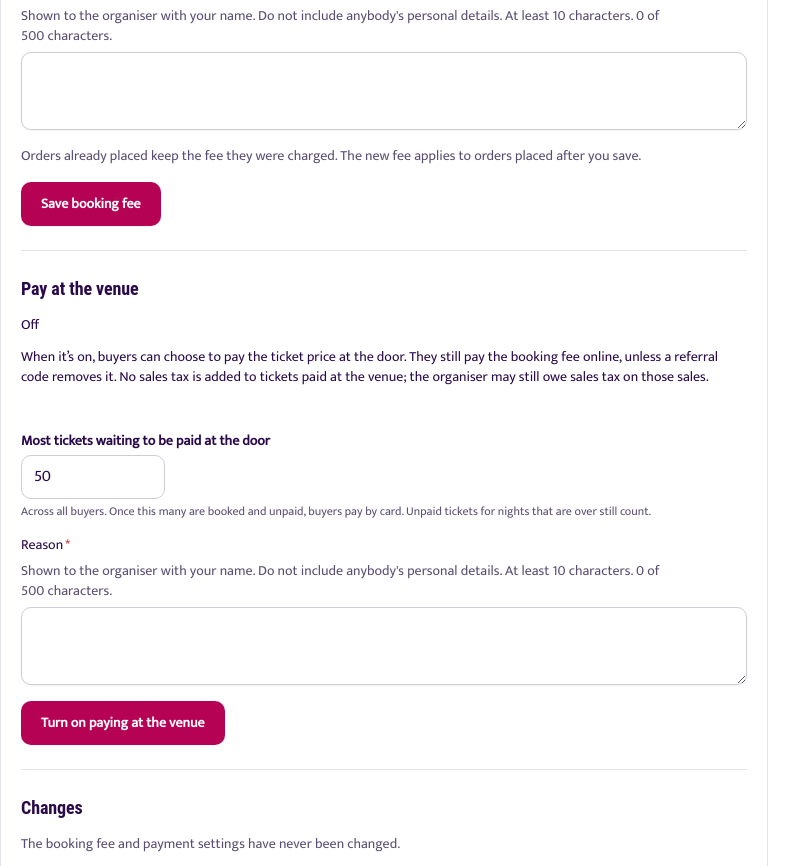
paying at the venue › says "ticket", not "tickets", for a limit of one
(page scrolled)
Replace the text in the number field labelled "Most tickets waiting to be paid at the door" with "1": (93, 477) 21,455 -> 165,499
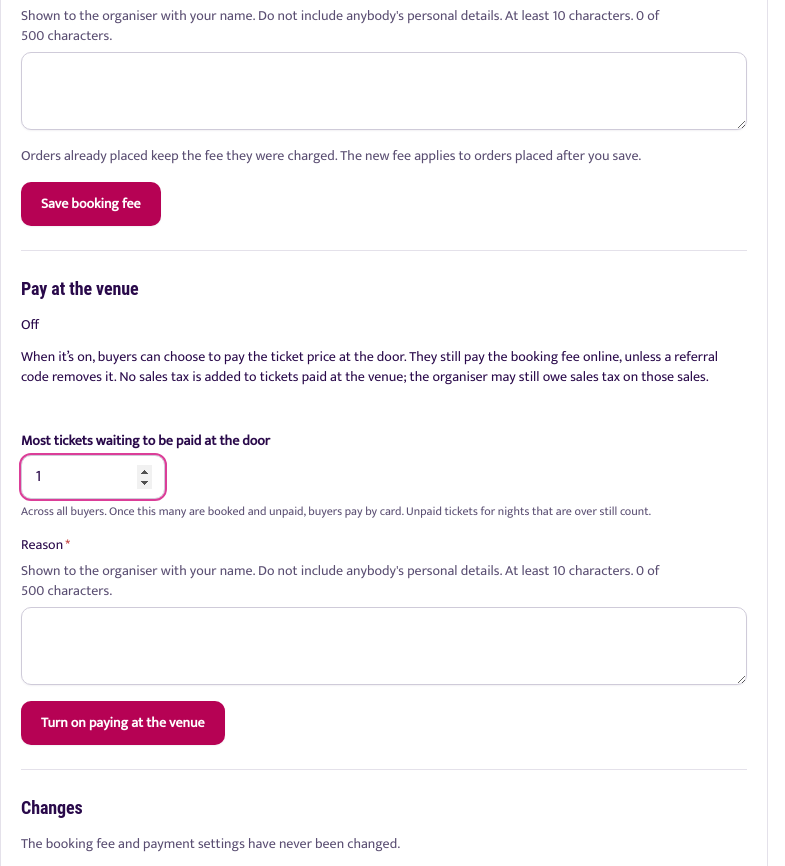
In the text box labelled "Reason*" below "Off": (384, 646) 21,607 -> 747,685, type "Agreed with the organiser for this launch."
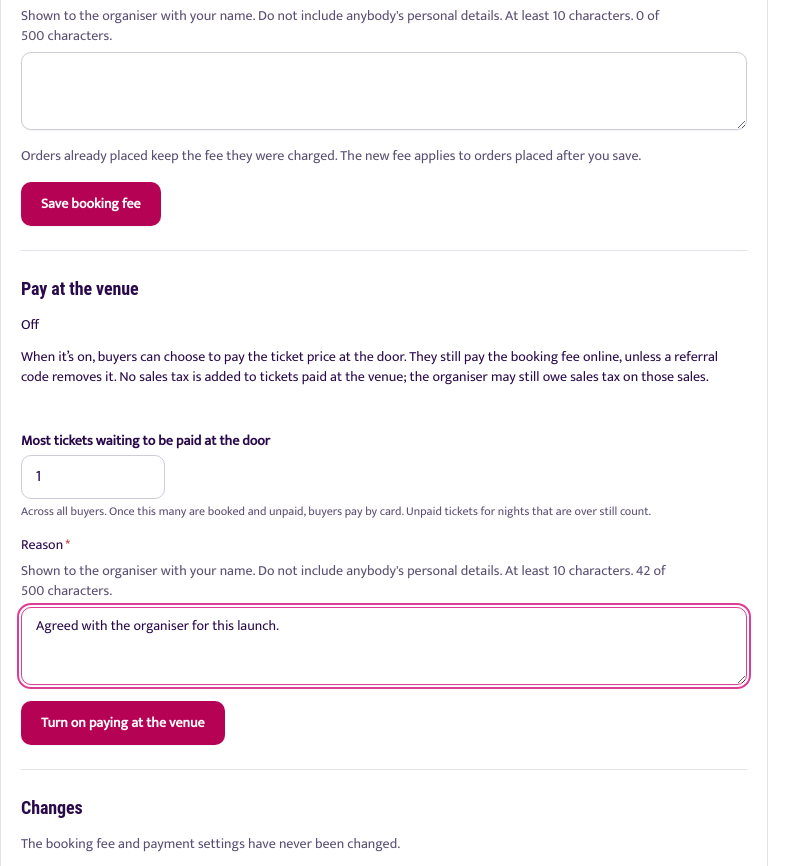
Click the button "Turn on paying at the venue": (123, 723) 21,701 -> 225,745
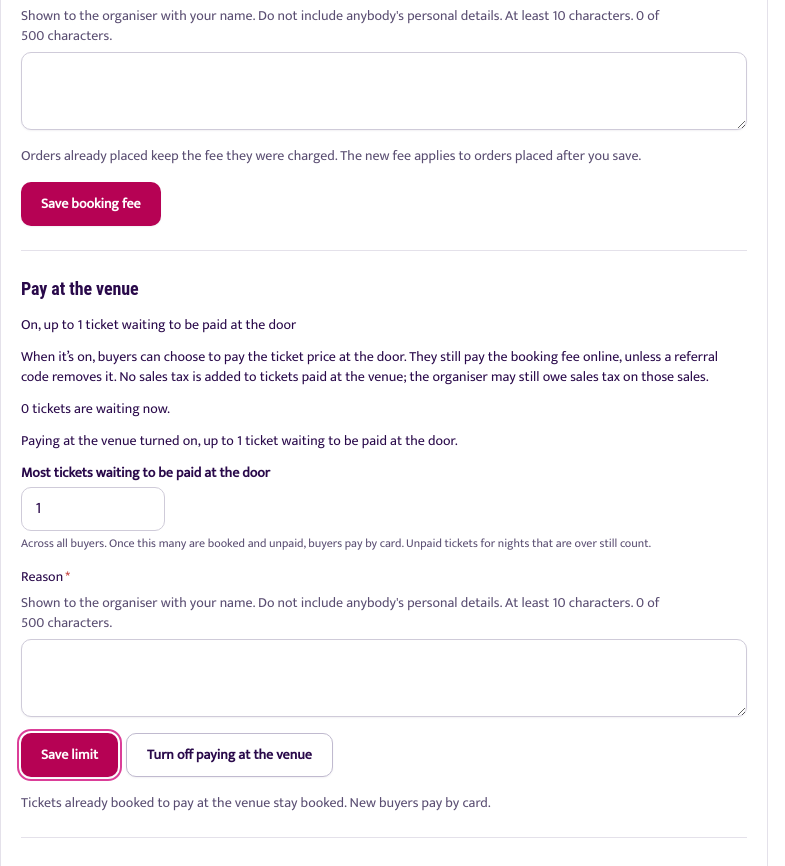
Expected: the text "Paying at the venue turned on, up to 1 ticket waiting to be paid at the door." is shown, 21,429 -> 458,452
Expected: the text with test id "venue-status" reads "On, up to 1 ticket waiting to be paid at the door", 21,313 -> 296,336
